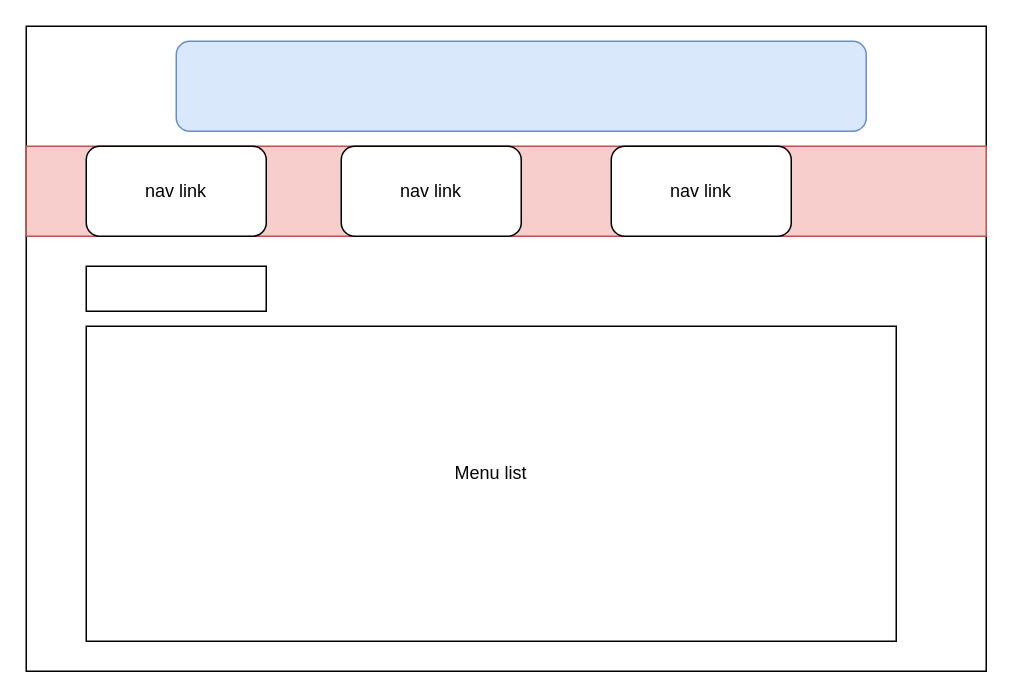
The diagram is 1013 pixels wide and 698 high, and some of its shapes have lost their labels. Each missing label, with the centre of its shape:
Business Name: pixel 520 85
menu: pixel 175 288
